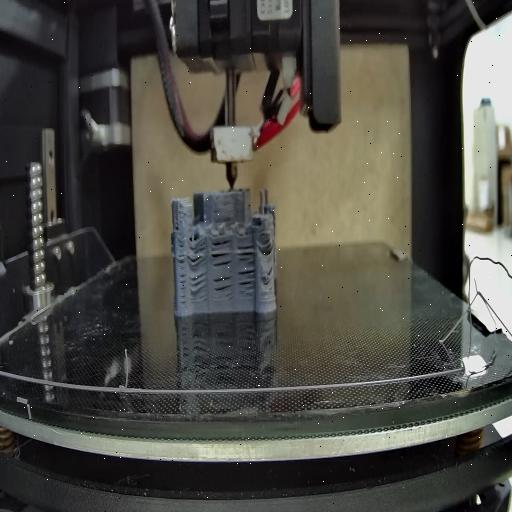cracks: (176, 252, 188, 306), (238, 268, 257, 298), (213, 275, 233, 301), (236, 240, 256, 262), (190, 272, 206, 295), (212, 251, 232, 269), (188, 250, 208, 266), (258, 238, 274, 258), (262, 267, 272, 289), (210, 240, 228, 248), (174, 218, 182, 232)
